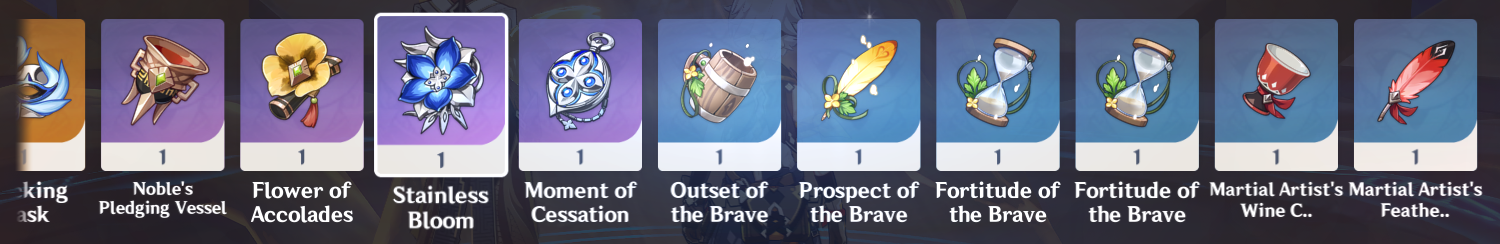3 star artifact: (792, 14, 932, 181), (1208, 14, 1348, 177), (1346, 13, 1481, 177), (932, 13, 1066, 178), (653, 18, 788, 180), (1071, 14, 1203, 177)
4 star artifact: (371, 7, 511, 180), (92, 15, 232, 177), (511, 13, 648, 178), (239, 18, 368, 177)
